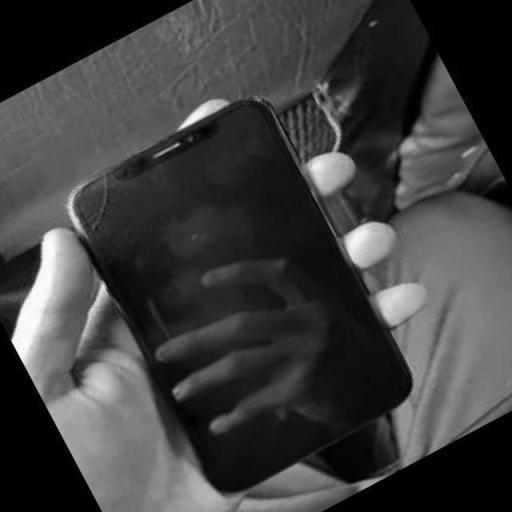phone: (64, 83, 428, 504)
